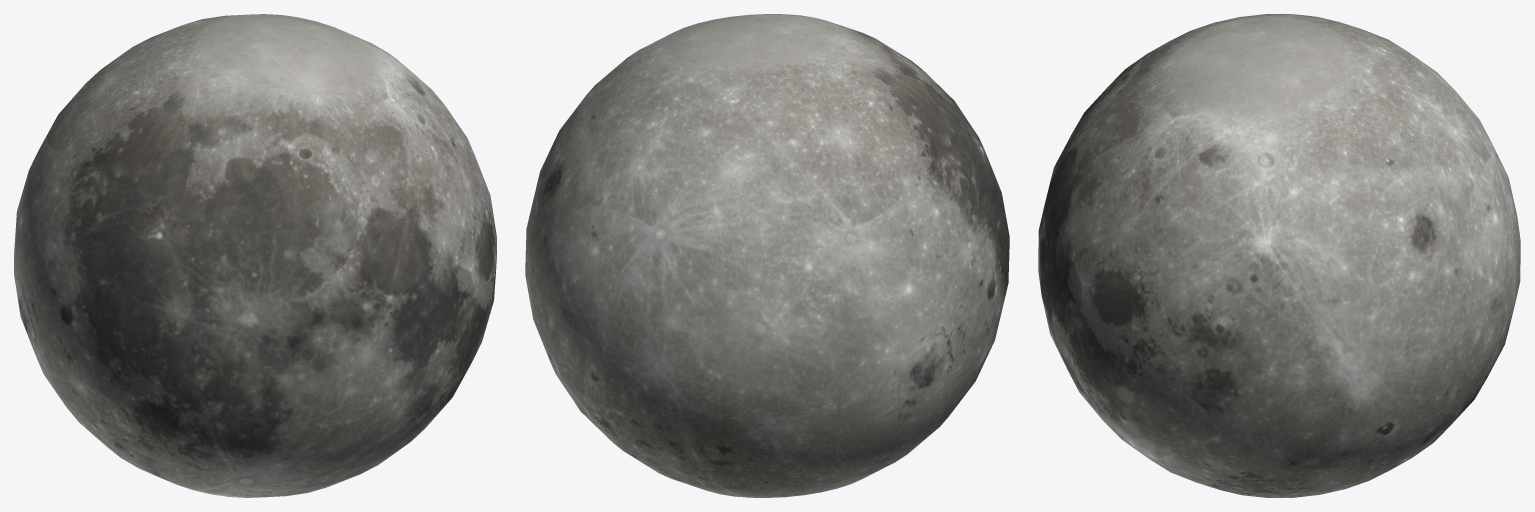
Rendered from Moon.glb.
3 renders of one model, left to right at view 1: azimuth 30°, elevation 25°; view 2: azimuth 150°, elevation 25°; view 3: azimuth 270°, elevation 25°, orthographic.
Visible parts, largest first — view 1: Sphere; view 2: Sphere; view 3: Sphere.
Part boxes in pixels (box(x1,y1,x2,y2)): Sphere: box(14, 14, 496, 497); Sphere: box(525, 14, 1009, 497); Sphere: box(1038, 14, 1520, 497).
Size of the model in its own units: 1.99 by 2 by 1.99.
Materials: 1 (1 with a texture image).
